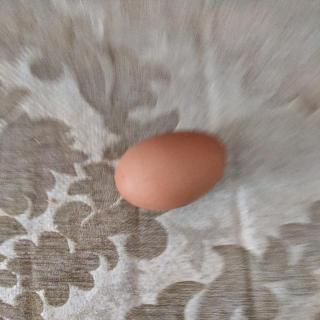Telur: (116, 130, 229, 213)
